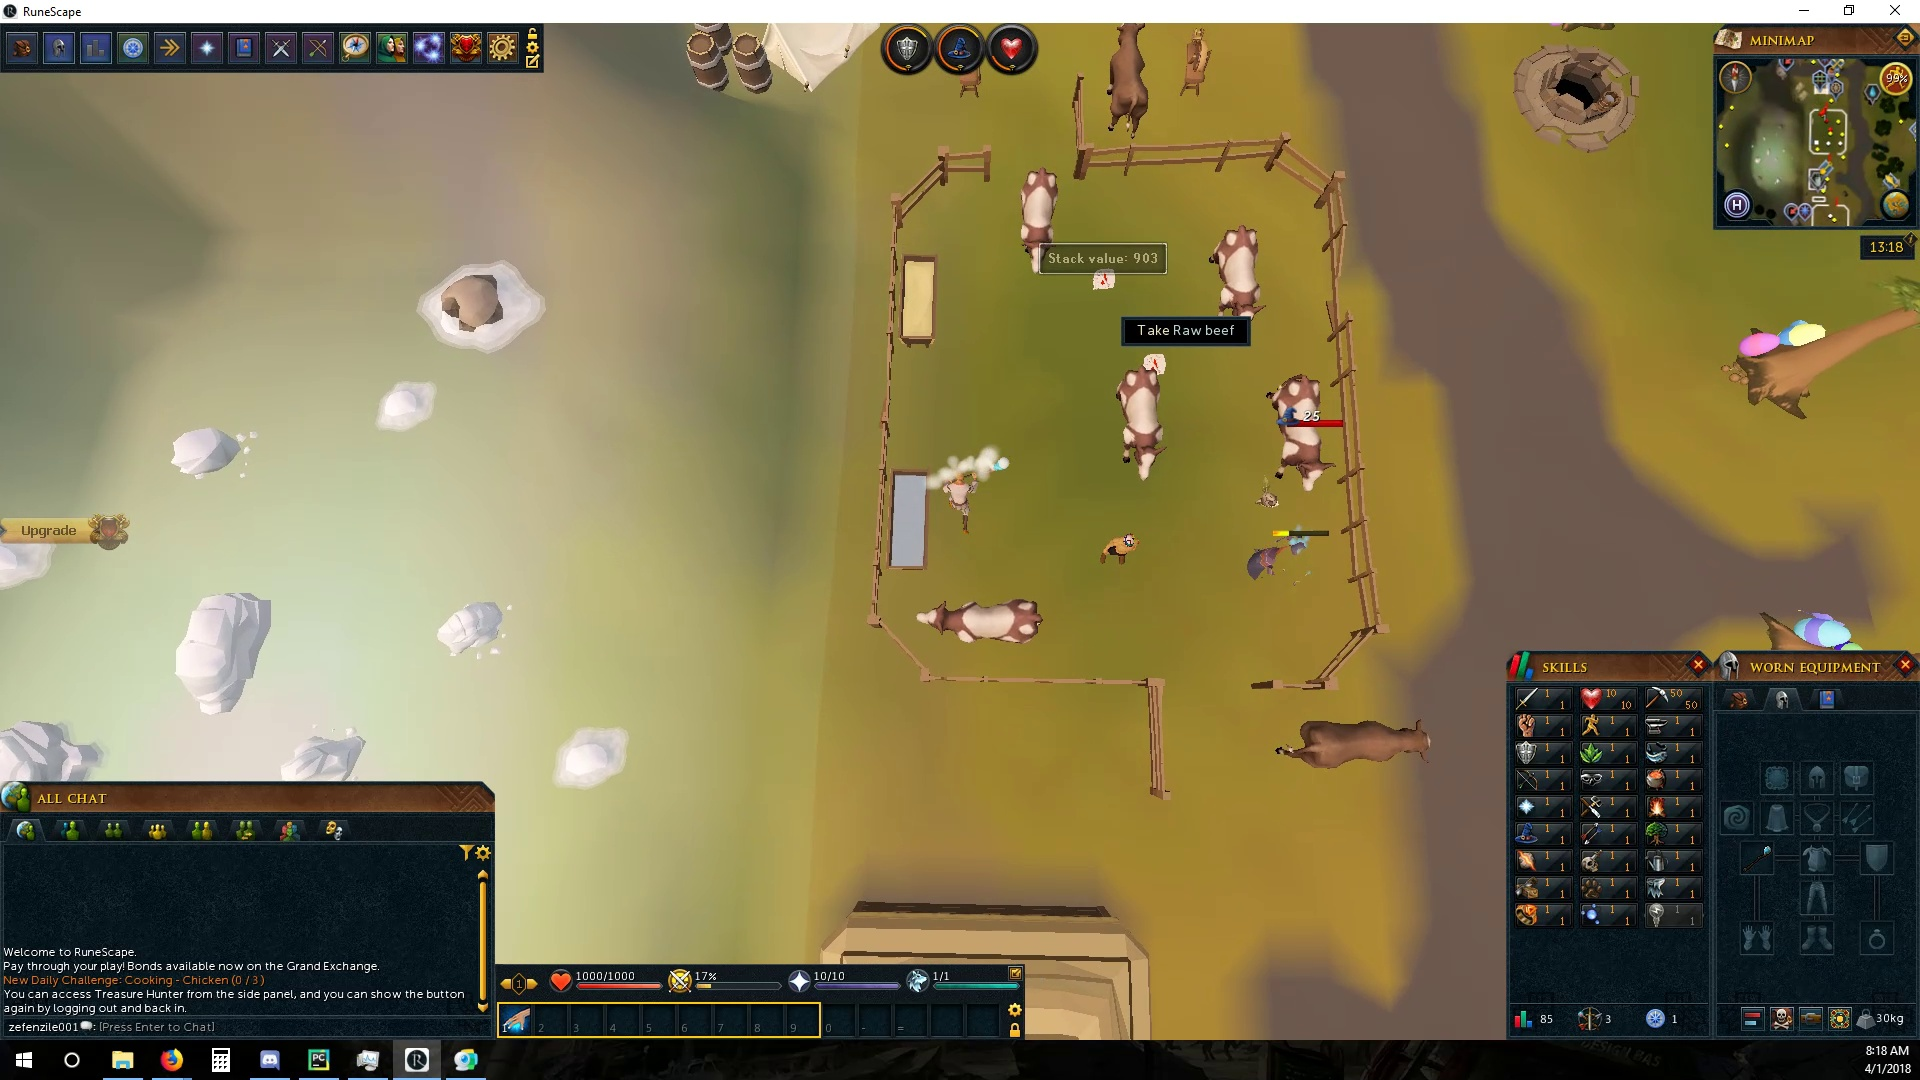cow: (1276, 715, 1440, 774), (1265, 367, 1337, 495), (916, 592, 1044, 647), (1113, 361, 1168, 483), (1205, 222, 1270, 318), (1015, 164, 1064, 282), (1101, 22, 1150, 138)
cow_drop: (1092, 266, 1121, 291), (1143, 349, 1170, 376)
